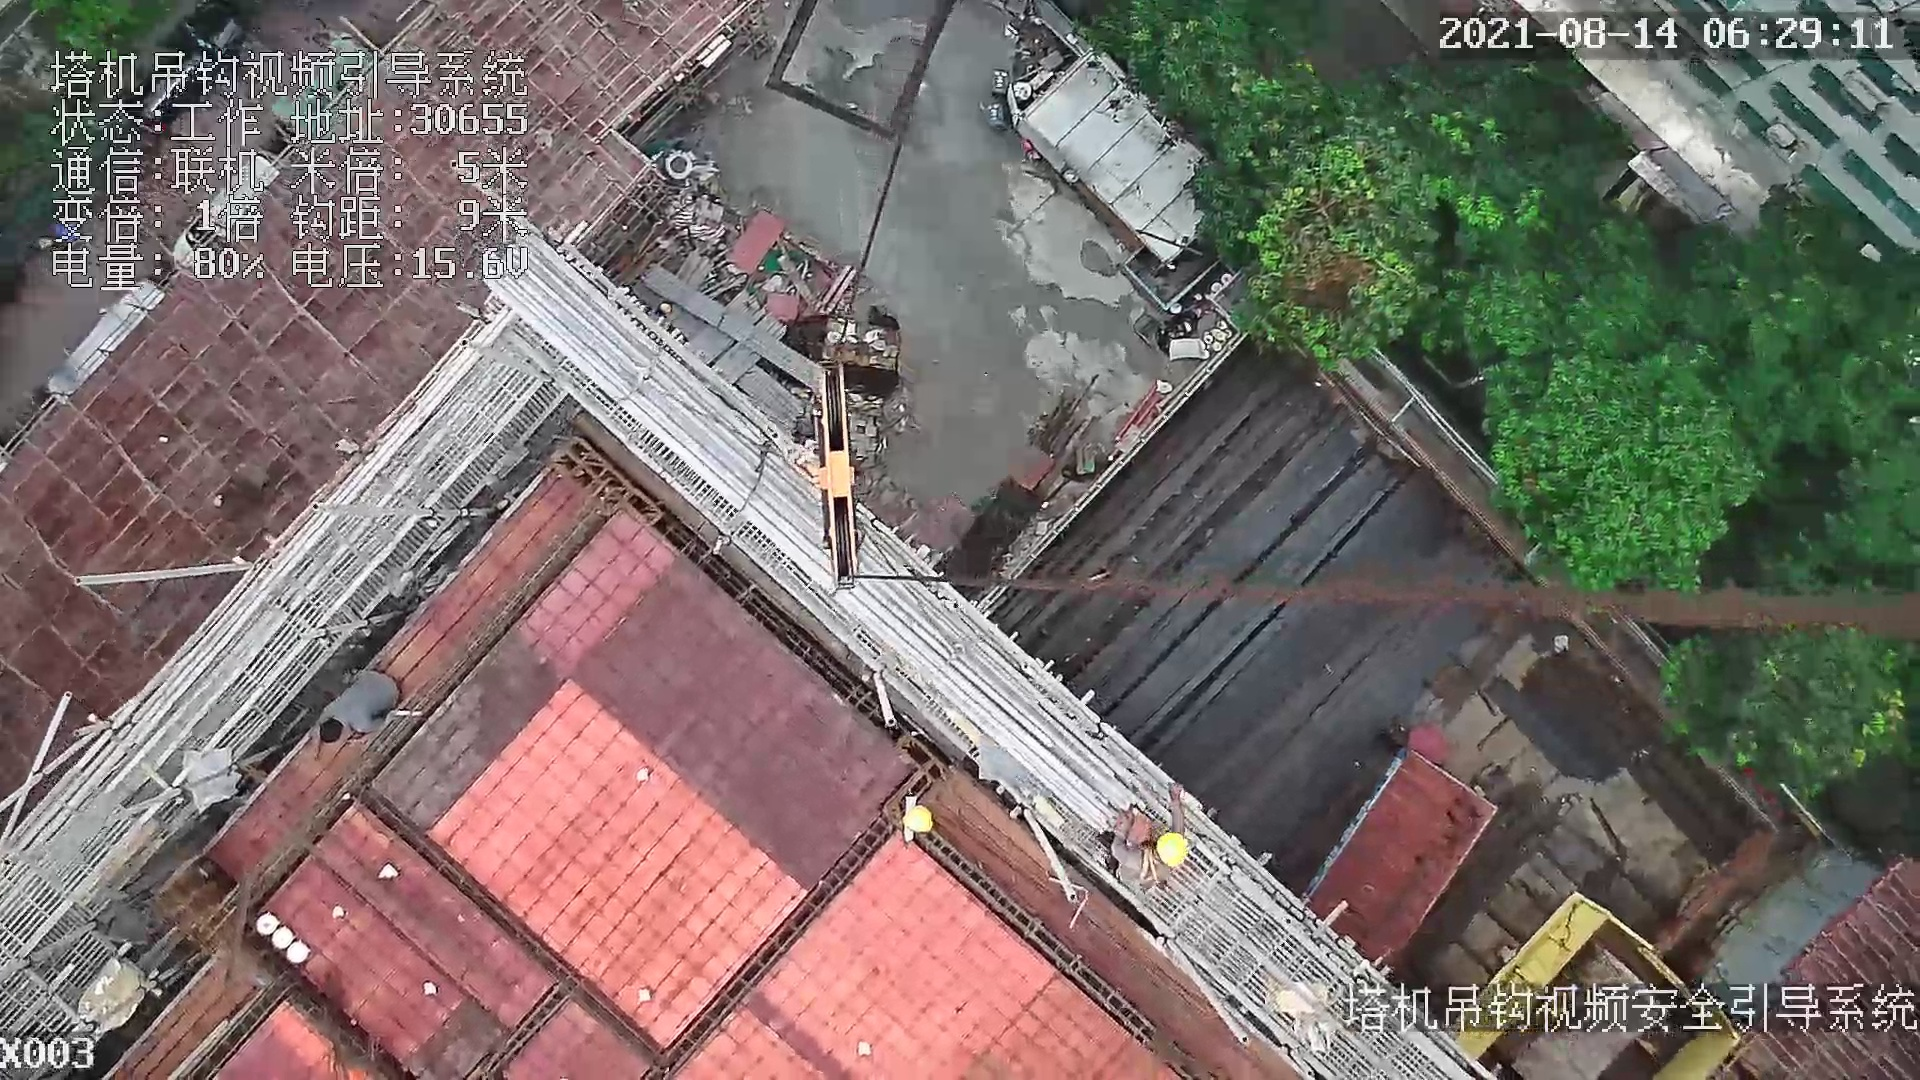helmet: (1159, 828, 1191, 872), (905, 808, 932, 837)
hook: (801, 358, 859, 591)
person: (1112, 787, 1194, 889)
rebar: (1017, 367, 1473, 783)
